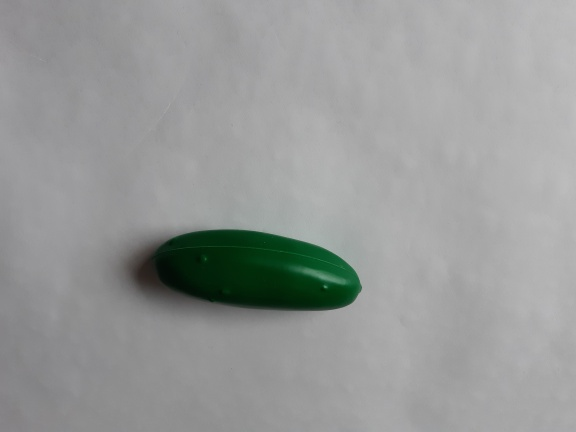cucumber: (148, 224, 371, 319)
